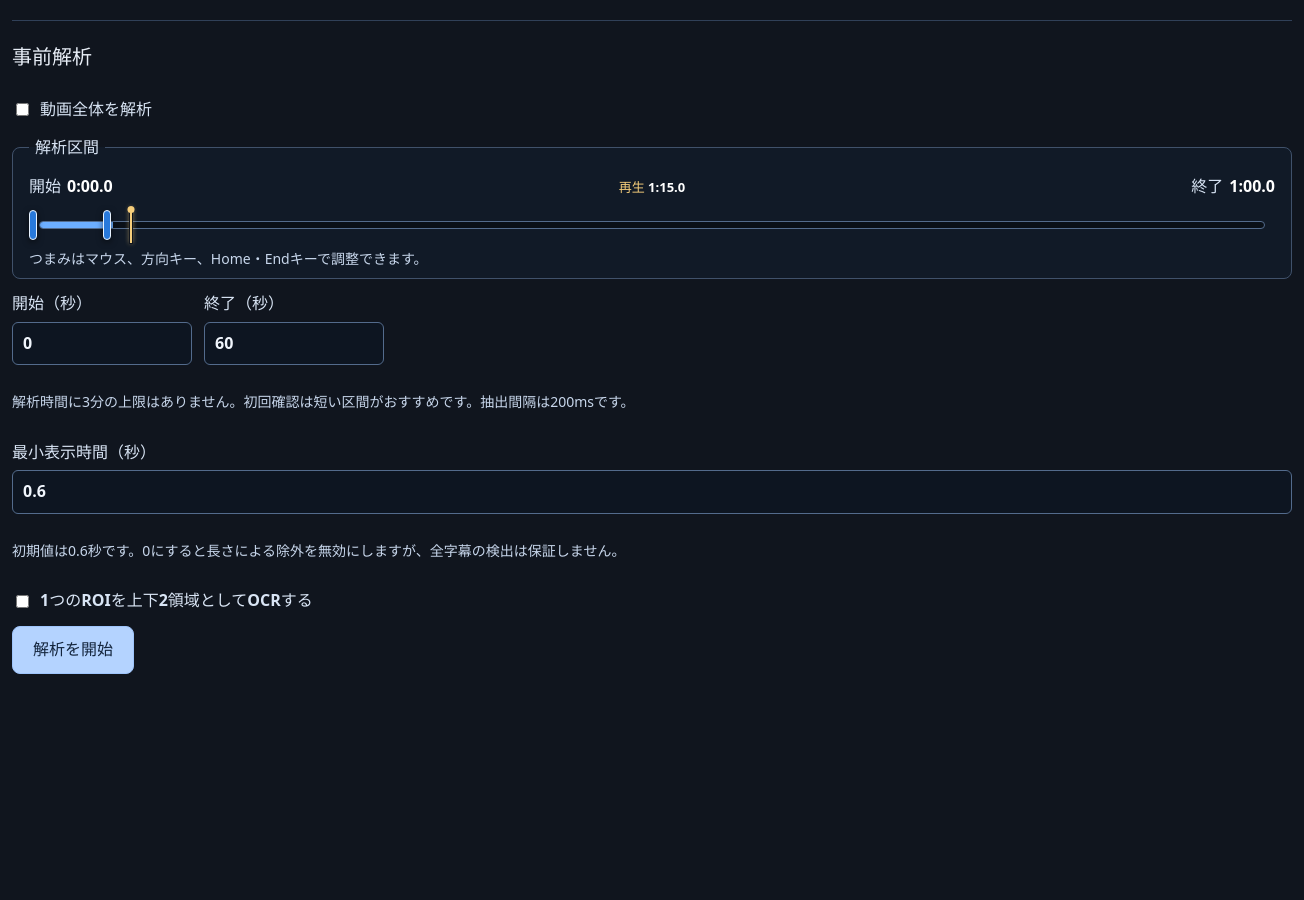
Test: shows the full interval without losing the previous partial range
The width and height of the screenshot is (1304, 900).
Replace the text in the number field labelled "開始（秒）" with "20" at (102, 344), box x1=12 y1=322 x2=192 y2=365
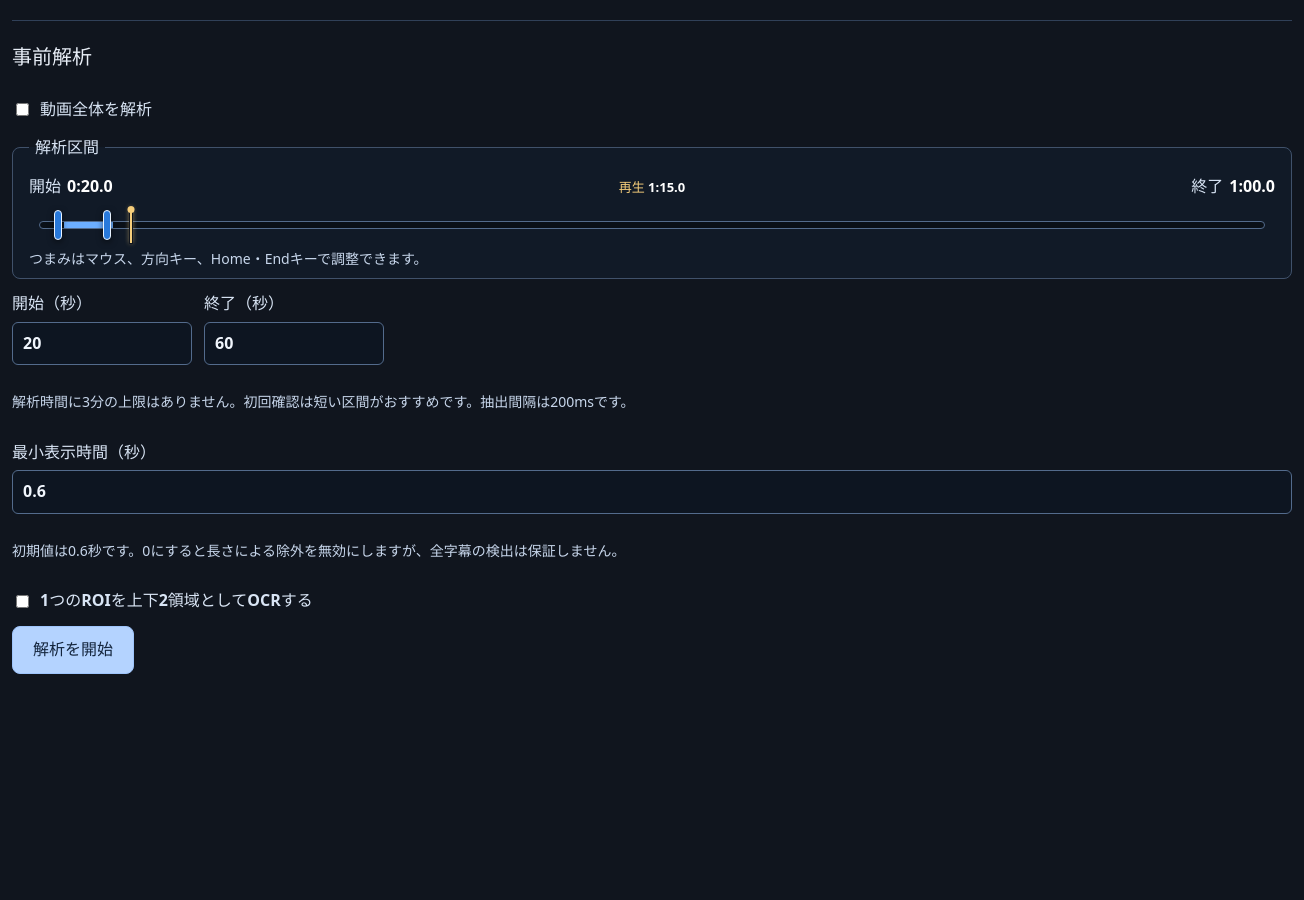
Replace the text in the number field labelled "終了（秒）" with "80" at (294, 344), box x1=204 y1=322 x2=384 y2=365
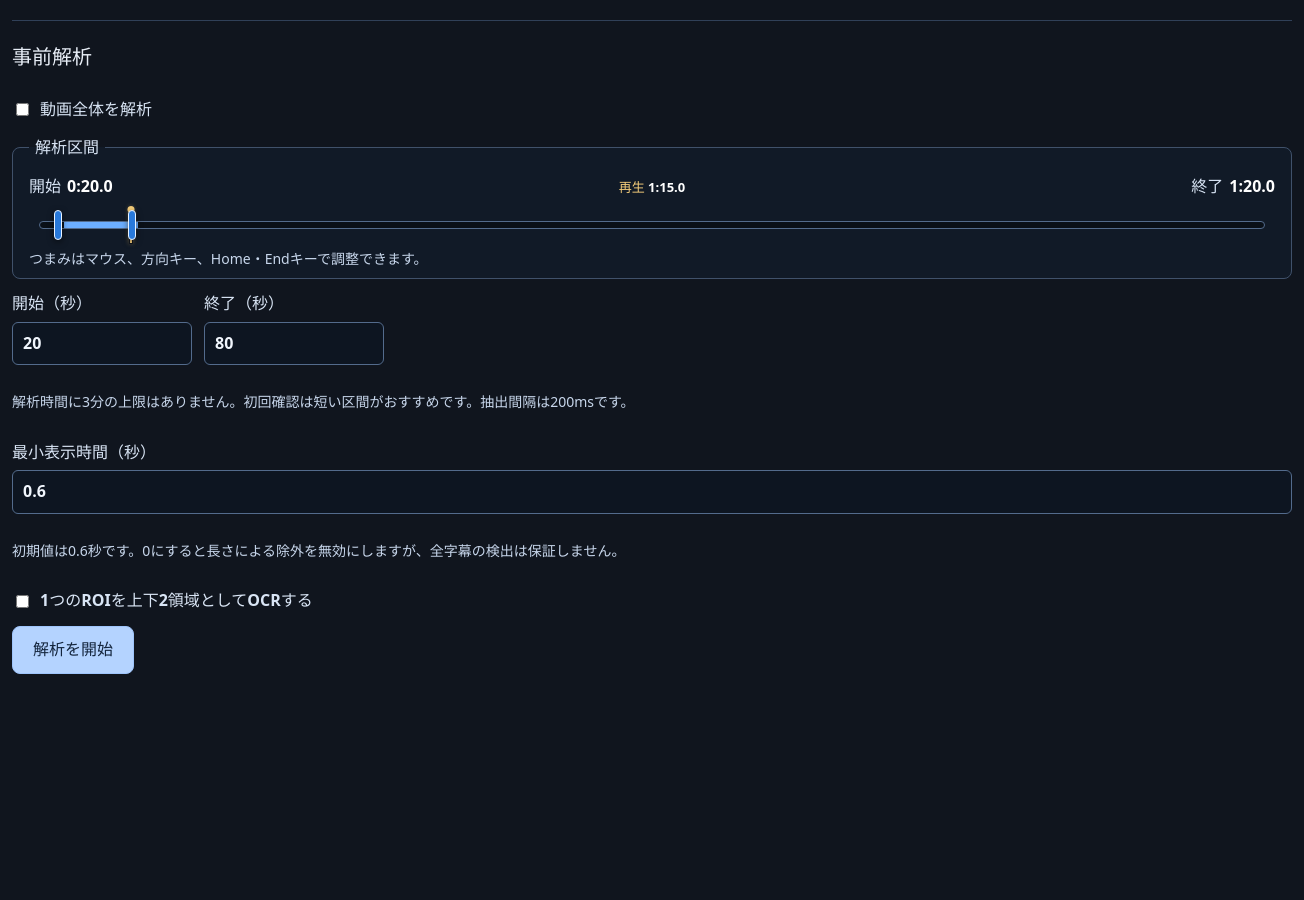
Click the checkbox labelled "動画全体を解析" at (22, 110), box x1=16 y1=103 x2=29 y2=116
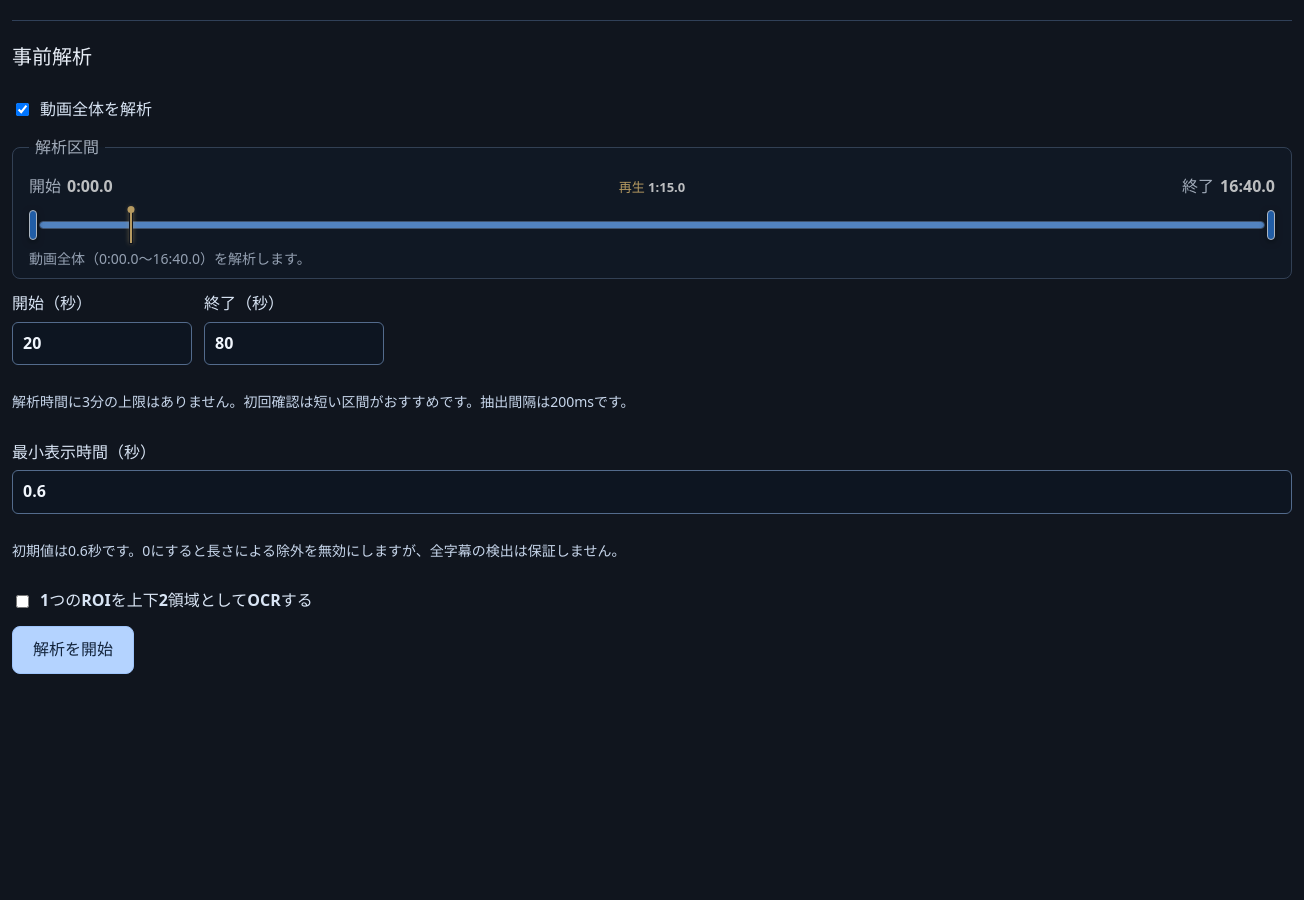
Expected: the number field labelled "開始（秒）" is disabled, x1=12 y1=322 x2=192 y2=365
Expected: the slider named "解析開始" holds "0", x1=29 y1=204 x2=1275 y2=246
Expected: the slider named "解析終了" holds "1000", x1=29 y1=204 x2=1275 y2=246
Click the checkbox labelled "動画全体を解析" at (22, 110), box x1=16 y1=103 x2=29 y2=116
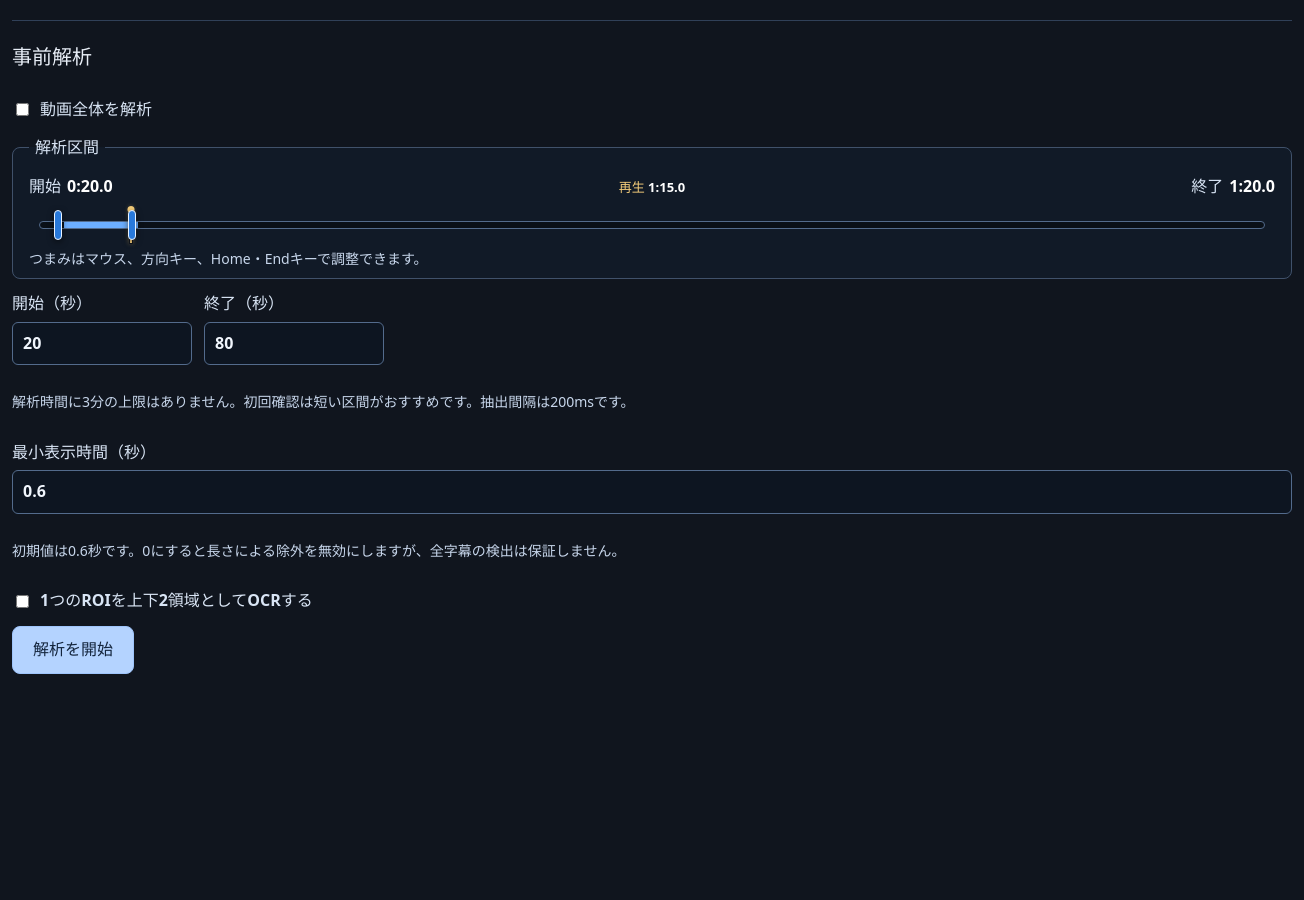
Expected: the slider named "解析開始" holds "20", x1=29 y1=204 x2=1275 y2=246
Expected: the slider named "解析終了" holds "80", x1=29 y1=204 x2=1275 y2=246
